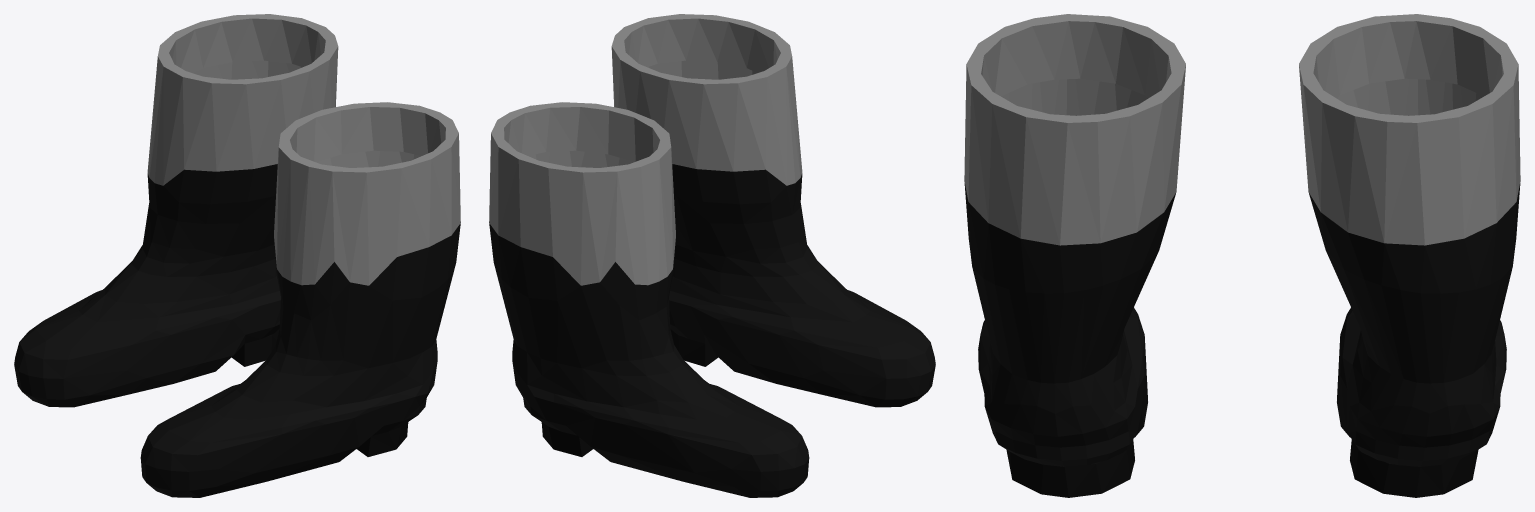
The model's file is Model_ButyBPP.fbx.
3 renders of one model, left to right at view 1: azimuth 30°, elevation 25°; view 2: azimuth 150°, elevation 25°; view 3: azimuth 270°, elevation 25°, orthographic. The views are drawn at different scales.
Visible parts, largest first — view 1: Mesh_ButyBPP; view 2: Mesh_ButyBPP; view 3: Mesh_ButyBPP.
Part boxes in pixels (x1,y1,x2,y2): Mesh_ButyBPP: (14, 14, 460, 497); Mesh_ButyBPP: (489, 14, 935, 497); Mesh_ButyBPP: (964, 14, 1520, 497).
Size of the model in its own units: 49.73 by 40.93 by 43.82.
